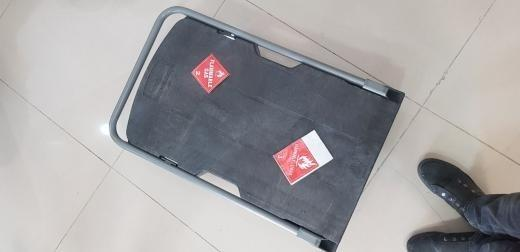flammable: (273, 138, 320, 187), (188, 52, 232, 93)
